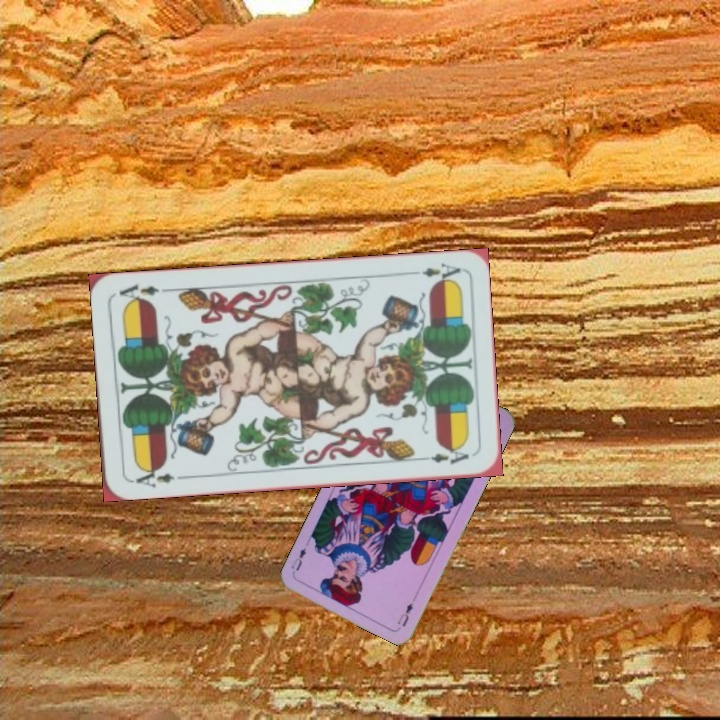EA: (404, 259, 463, 285), (127, 462, 177, 490)
EU: (393, 599, 416, 629)
